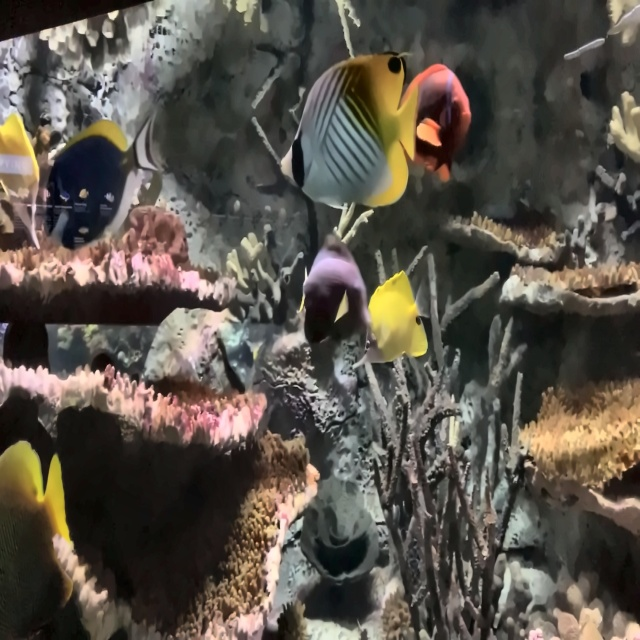fish: (279, 49, 420, 210), (42, 104, 163, 252), (0, 439, 74, 635), (394, 62, 471, 185), (295, 230, 372, 347), (351, 267, 430, 372), (0, 111, 40, 251)
